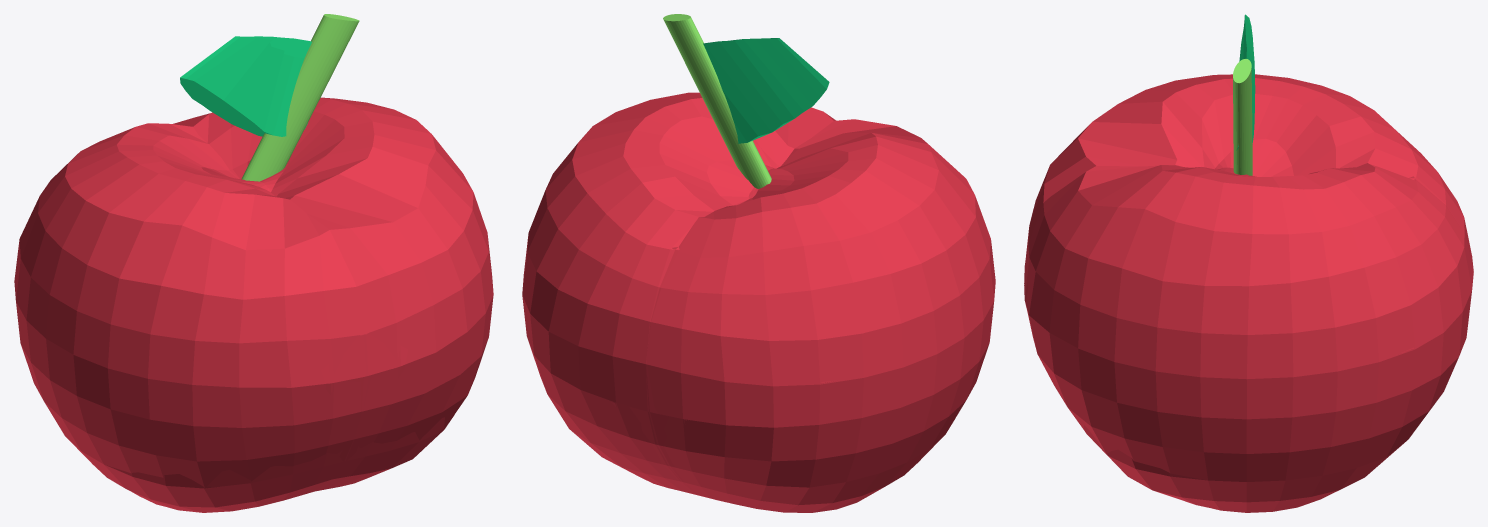
The model's file is Maça.fbx.
3 renders of one model, left to right at view 1: azimuth 30°, elevation 25°; view 2: azimuth 150°, elevation 25°; view 3: azimuth 270°, elevation 25°, orthographic.
Parts seen in each view (by area): view 1: Maça, Folha, Palito; view 2: Maça, Folha, Palito; view 3: Maça, Palito, Folha.
Part boxes in pixels (bbox=[...]): Maça: bbox=[14, 97, 493, 512]; Folha: bbox=[180, 36, 311, 136]; Palito: bbox=[241, 14, 359, 181]; Maça: bbox=[522, 92, 995, 512]; Folha: bbox=[703, 38, 829, 143]; Palito: bbox=[663, 14, 771, 188]; Maça: bbox=[1024, 74, 1473, 512]; Palito: bbox=[1233, 59, 1252, 175]; Folha: bbox=[1236, 14, 1255, 150].
Size of the model in its own units: 200 by 207 by 189.
